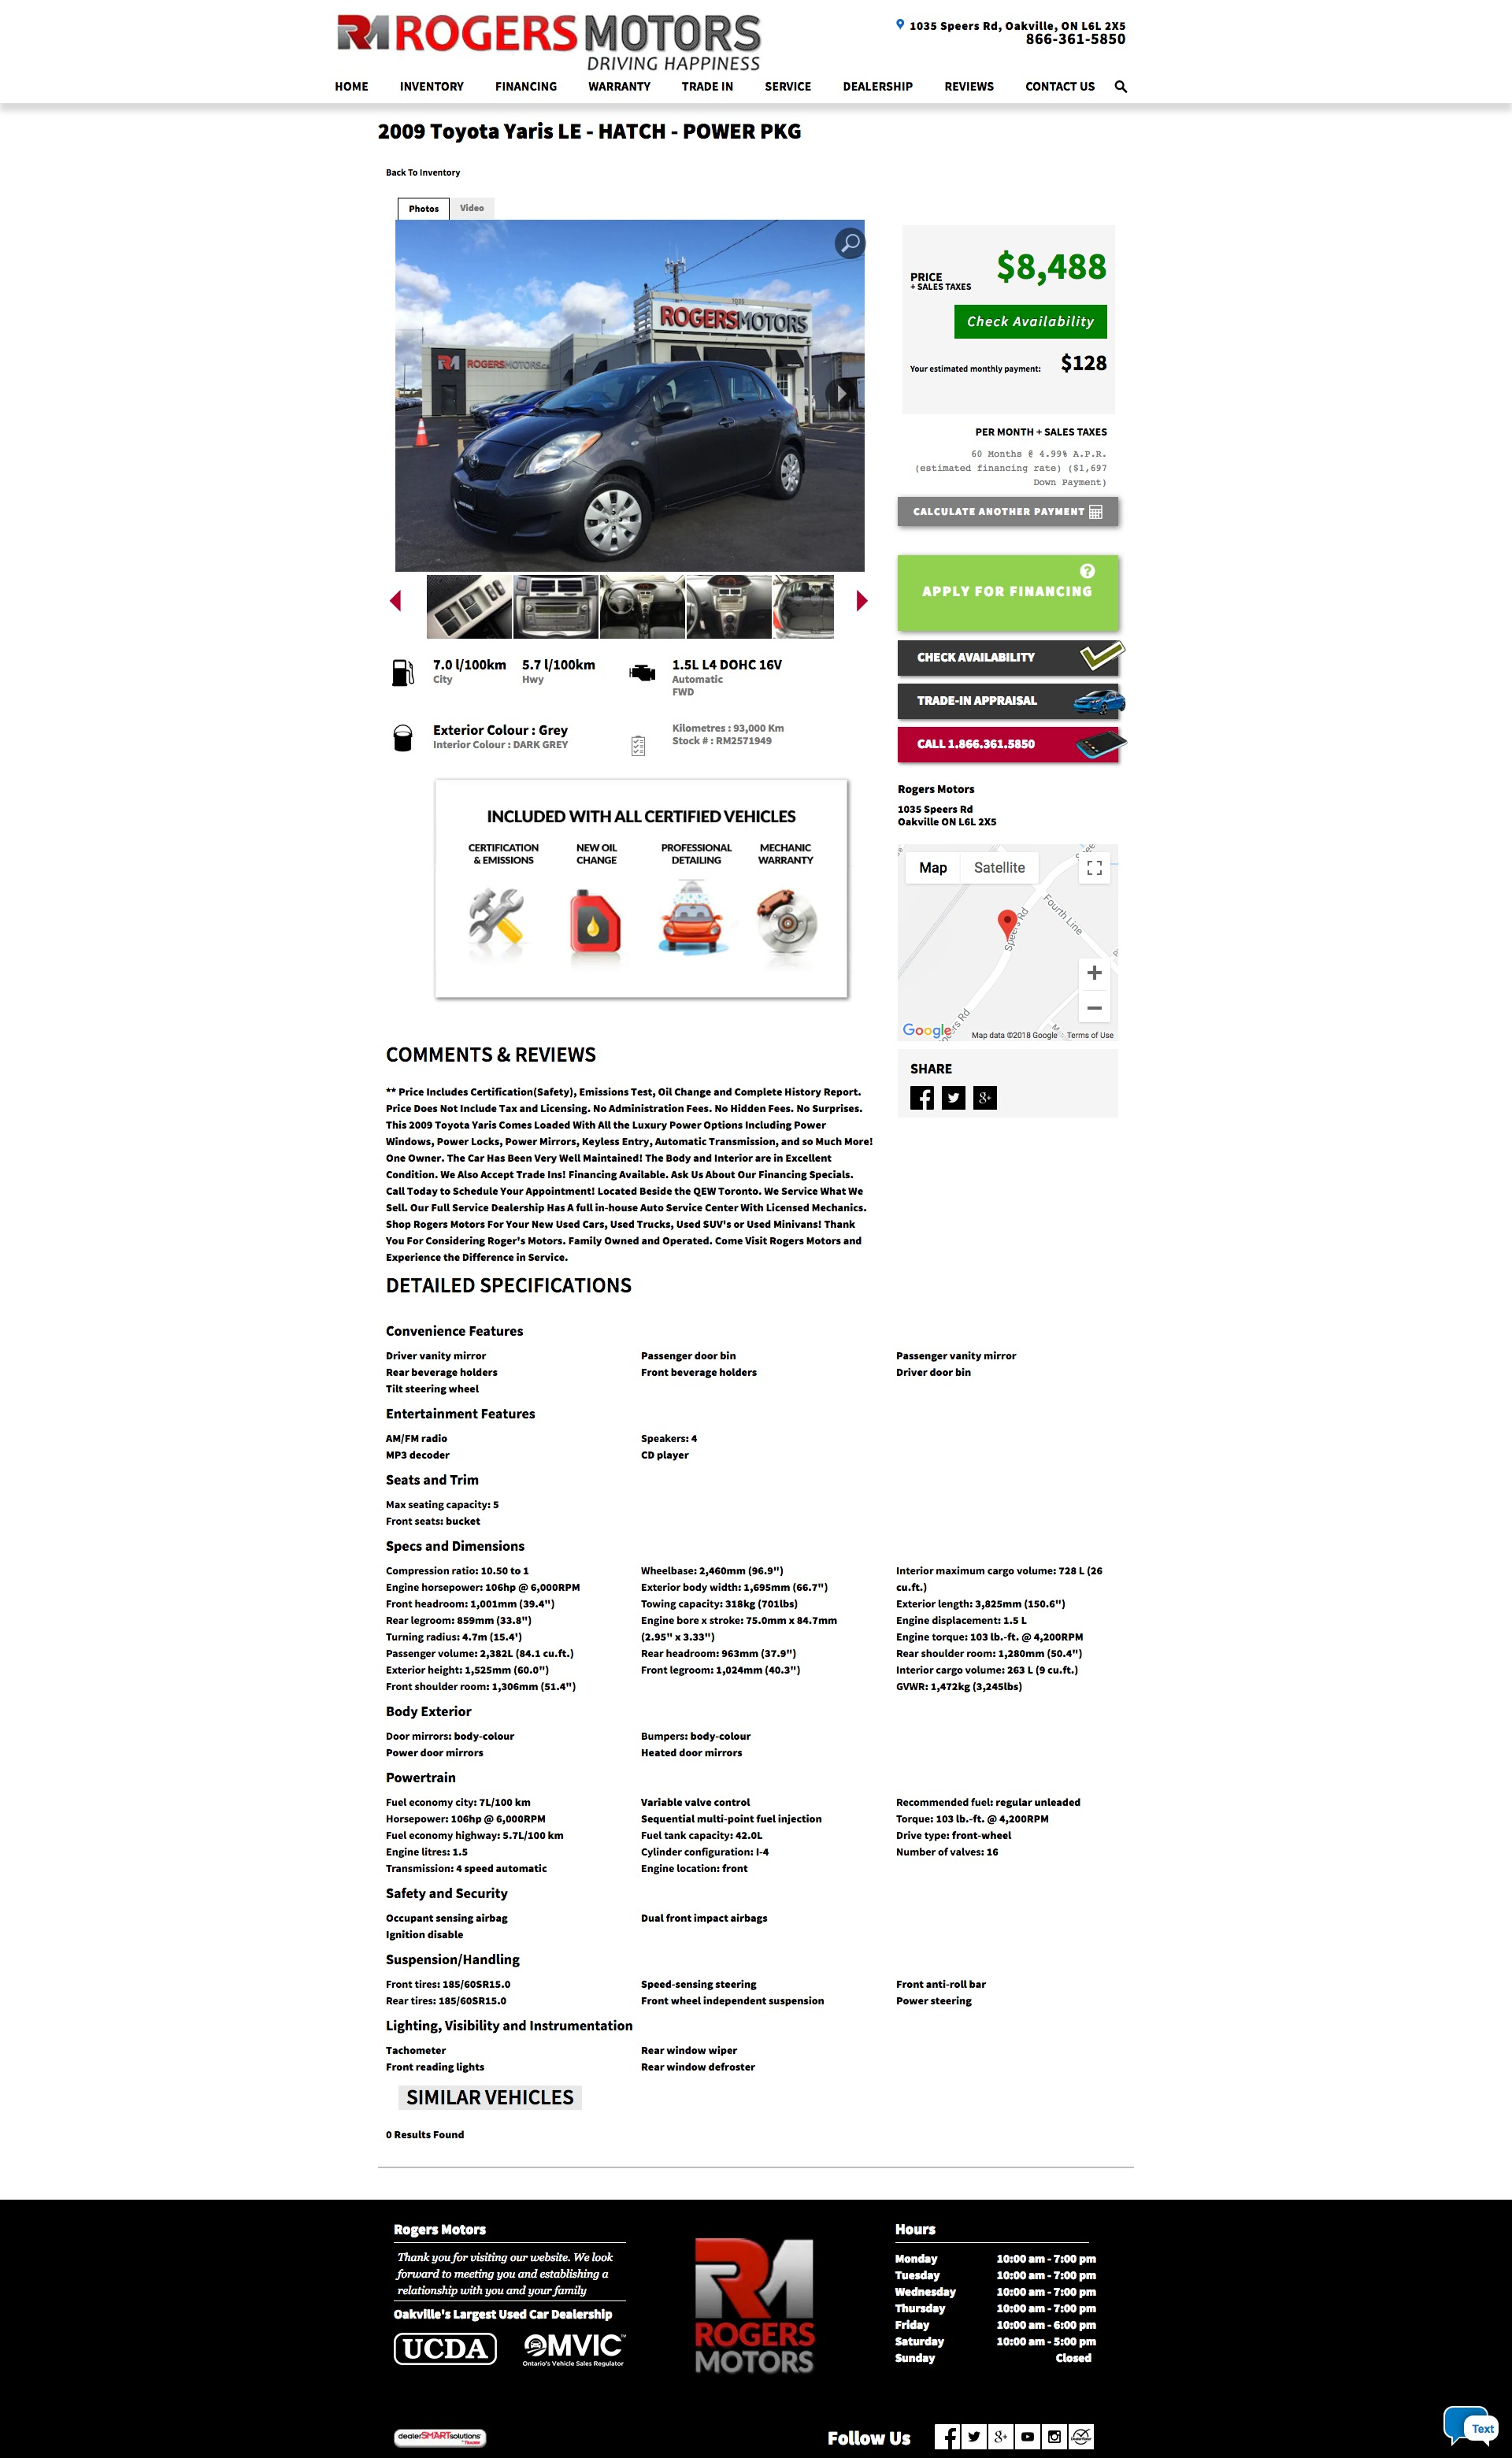car: (855, 590, 869, 613)
